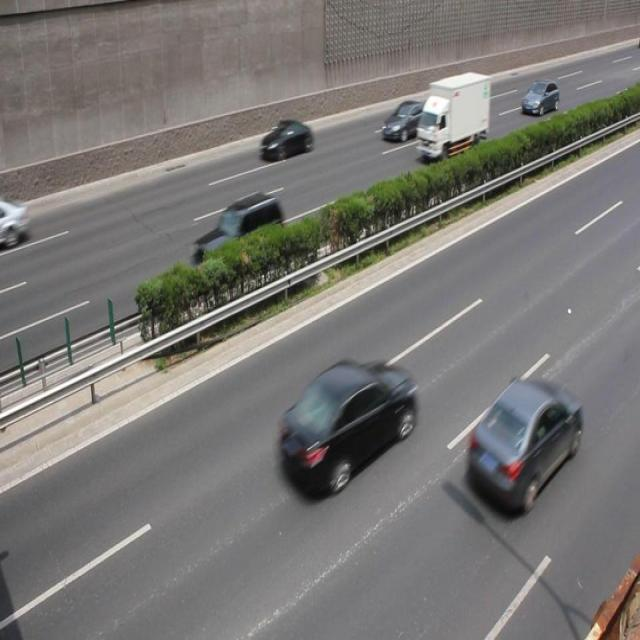bus: (414, 70, 491, 163)
car: (274, 359, 413, 499), (464, 375, 579, 512), (187, 194, 284, 285), (258, 118, 313, 164), (380, 101, 430, 141), (1, 198, 30, 248), (520, 80, 558, 116)
